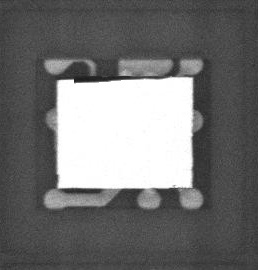DIE_BROKEN: (72, 74, 154, 84)
